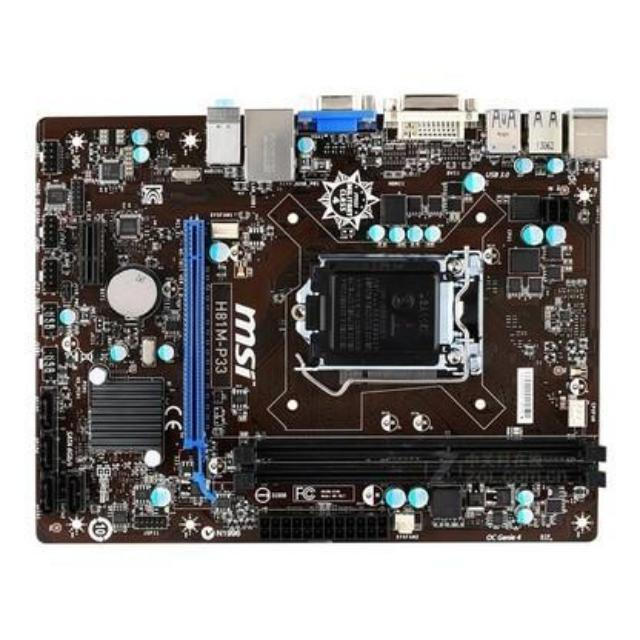Mainboard: (34, 111, 597, 544)
